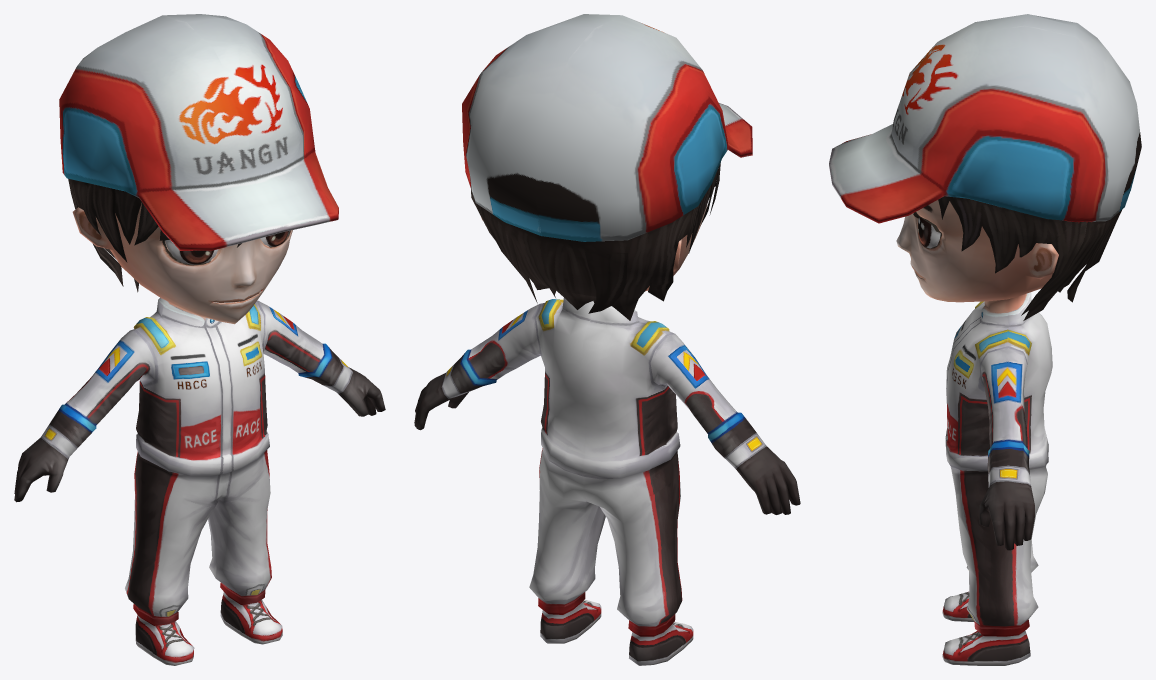
Rendered from model_man1.FBX.
3 views of the same model, side by side, from view 1: azimuth 30°, elevation 25°; view 2: azimuth 150°, elevation 25°; view 3: azimuth 270°, elevation 25° (orthographic). The views are drawn at different scales.
Visible parts, largest first — view 1: model_man1; view 2: model_man1; view 3: model_man1.
Boxes of the visible parts, box(x1,y1,x2,y2) form: model_man1: box(14, 14, 385, 665); model_man1: box(414, 14, 800, 665); model_man1: box(829, 14, 1141, 665).
Size of the model in its own units: 75.67 by 118 by 54.65.
